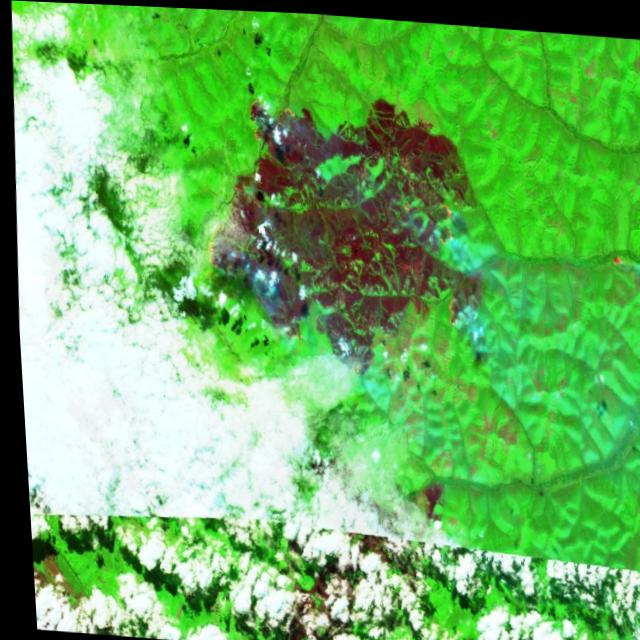fire: (241, 85, 305, 155), (394, 190, 456, 245), (199, 212, 245, 284), (331, 349, 362, 380)
